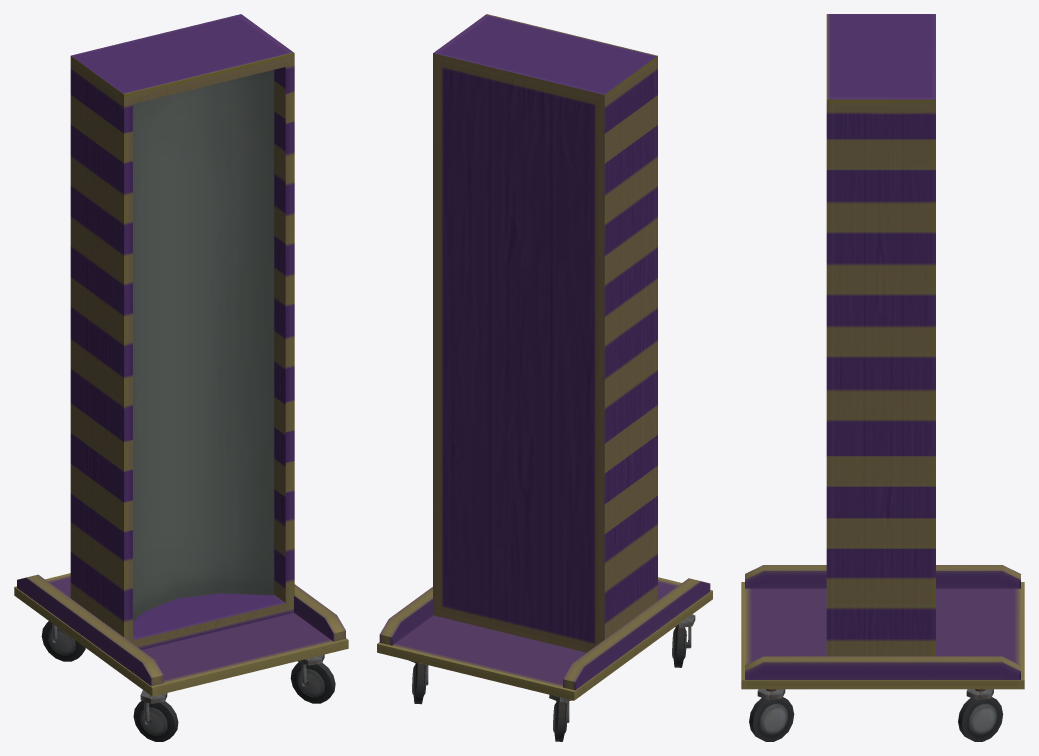
Rendered from CrazyMirror_PurpleGold_Scaled.fbx.
3 renders of one model, left to right at view 1: azimuth 30°, elevation 25°; view 2: azimuth 150°, elevation 25°; view 3: azimuth 270°, elevation 25°, orthographic. The views are drawn at different scales.
Visible parts, largest first — view 1: Mirror, MainFrame3, BottomA, BottomB, BottomB1, WheelB1, WheelB4, WheelB2; view 2: MainFrame3, BottomA, BottomB, BottomB1; view 3: MainFrame3, BottomA, BottomB1, BottomB, WheelB3, WheelB1.
Part boxes in pixels (left/top/right/bottom): Mirror: left=133, top=70, right=274, bottom=621; MainFrame3: left=70, top=14, right=294, bottom=649; BottomA: left=14, top=573, right=348, bottom=696; BottomB: left=17, top=574, right=163, bottom=686; BottomB1: left=294, top=584, right=345, bottom=641; WheelB1: left=290, top=662, right=335, bottom=703; WheelB4: left=133, top=700, right=178, bottom=741; WheelB2: left=41, top=621, right=85, bottom=661; MainFrame3: left=433, top=14, right=657, bottom=652; BottomA: left=377, top=577, right=712, bottom=700; BottomB: left=563, top=578, right=710, bottom=690; BottomB1: left=379, top=587, right=433, bottom=645; MainFrame3: left=826, top=14, right=935, bottom=656; BottomA: left=741, top=582, right=1024, bottom=689; BottomB1: left=745, top=656, right=1020, bottom=679; BottomB: left=745, top=565, right=1020, bottom=588; WheelB3: left=958, top=697, right=1003, bottom=741; WheelB1: left=749, top=697, right=794, bottom=741.
Bounding box in the file's own units: 81.58 × 249 × 99.33.
